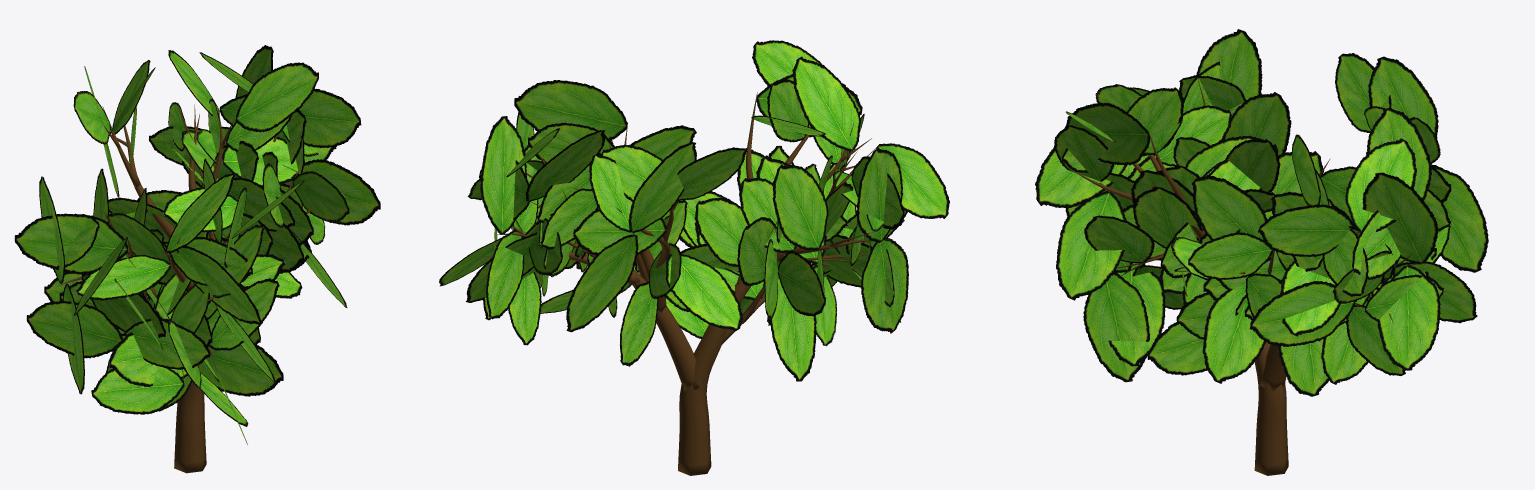
The model's file is Stage 3 Asset.fbx.
3 views of the same model, side by side, from view 1: azimuth 30°, elevation 25°; view 2: azimuth 150°, elevation 25°; view 3: azimuth 270°, elevation 25° (orthographic). The views are drawn at different scales.
Visible parts, largest first — view 1: Plane.010, tree.031; view 2: Plane.010, tree.031; view 3: Plane.010, tree.031.
Part boxes in pixels (x1,y1,x2,y2): Plane.010: (14, 45, 380, 444); tree.031: (56, 104, 311, 473); Plane.010: (439, 40, 949, 381); tree.031: (481, 92, 892, 475); Plane.010: (1035, 29, 1488, 396); tree.031: (1069, 79, 1426, 475).
Bounding box in the file's own units: 450 × 442 × 507.
